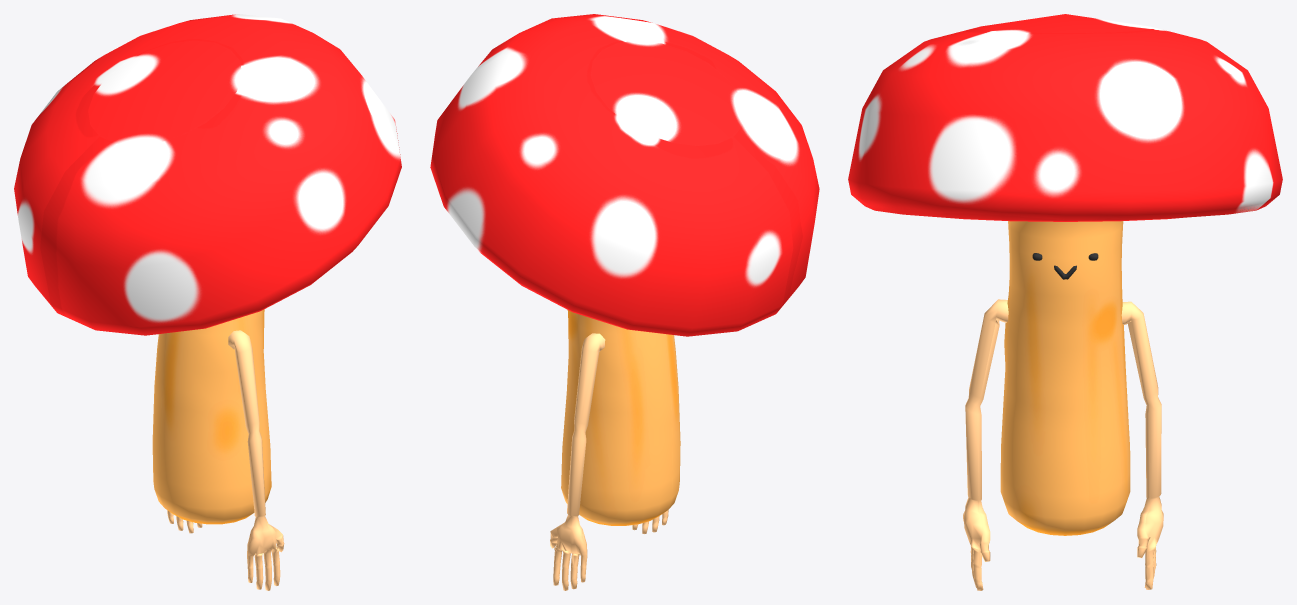
The model's file is Toad.glb.
3 renders of one model, left to right at view 1: azimuth 30°, elevation 25°; view 2: azimuth 150°, elevation 25°; view 3: azimuth 270°, elevation 25°, orthographic. The views are drawn at different scales.
Visible parts, largest first — view 1: Char_025_Mushy; view 2: Char_025_Mushy; view 3: Char_025_Mushy.
Boxes of the visible parts, x1,y1,x2,y2 form: Char_025_Mushy: [14, 14, 401, 590]; Char_025_Mushy: [430, 14, 819, 590]; Char_025_Mushy: [848, 14, 1282, 590].
Size of the model in its own units: 0.8988 by 1.33 by 0.9295.
1 material, 1 textured.
